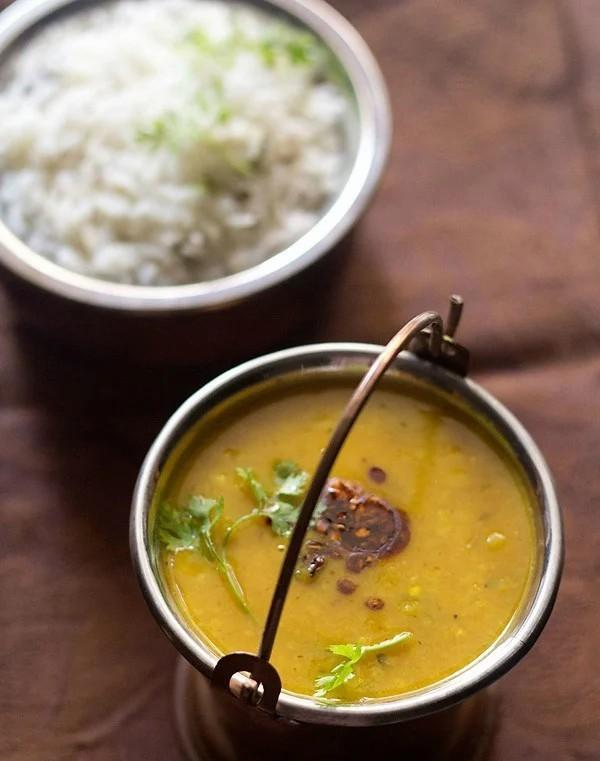Dal: (149, 379, 544, 702)
WhiteRice: (0, 0, 352, 288)
